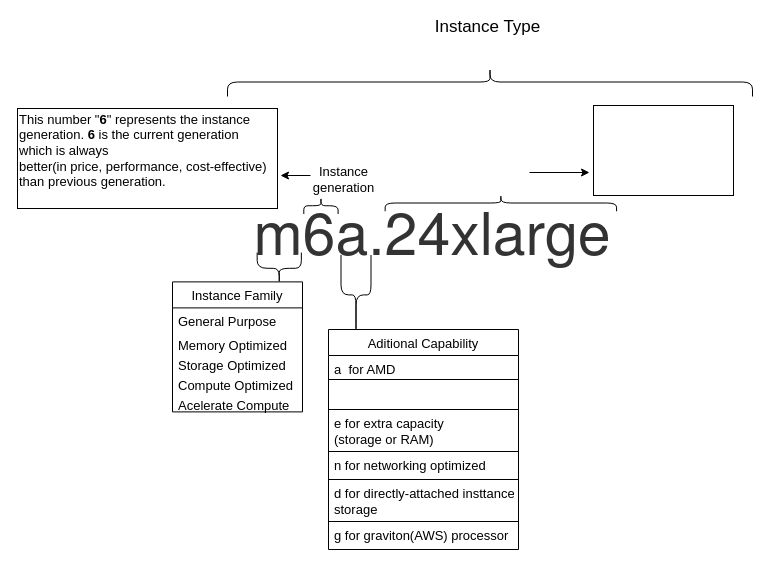
Some shapes in this 770 by 569 pixel diagram are drawn without their labels. Here are the shapes that lost their labels. From the top down, the centre of each, then its label:
point 663,150: Amount of: CPU Memory Network performance
point 500,202: Instance size
point 423,394: b for Block Storage optimize
